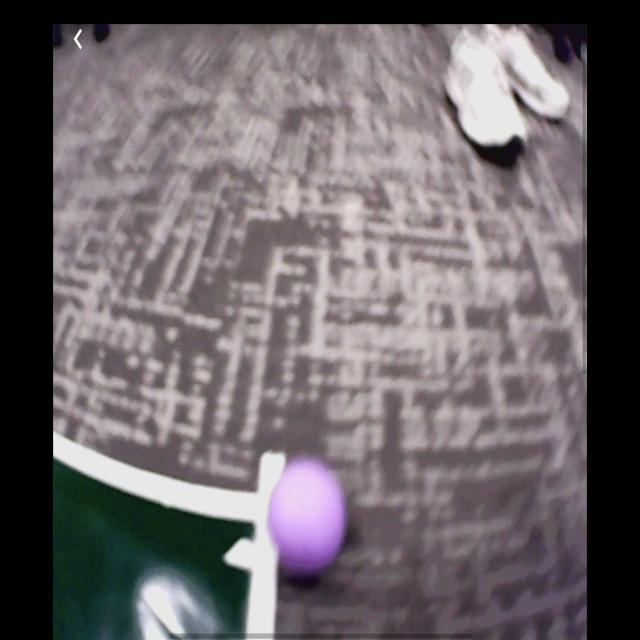ball: (266, 453, 348, 580)
